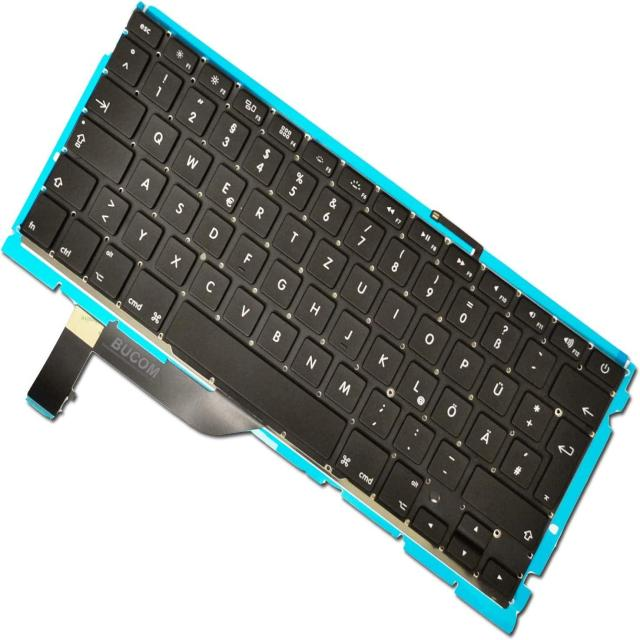0: (445, 283, 488, 335)
1: (141, 58, 182, 108)
2: (173, 82, 216, 133)
3: (208, 107, 250, 157)
4: (241, 132, 283, 183)
5: (274, 158, 317, 208)
6: (308, 183, 351, 233)
7: (342, 208, 386, 258)
8: (376, 233, 419, 284)
9: (410, 258, 453, 308)
a: (125, 155, 167, 206)
accent: (514, 334, 557, 385)
ae: (465, 410, 506, 461)
alt-left: (88, 242, 132, 302)
altgr-right: (376, 463, 423, 519)
b: (255, 308, 299, 360)
c: (187, 260, 231, 311)
caret: (104, 34, 149, 86)
comma: (358, 385, 401, 438)
d: (191, 204, 234, 257)
del: (548, 361, 610, 433)
e: (204, 160, 247, 212)
enter: (533, 413, 590, 509)
f: (224, 229, 268, 281)
g: (259, 257, 302, 306)
h: (293, 281, 336, 332)
hash: (498, 435, 542, 489)
i: (374, 286, 417, 337)
j: (326, 307, 370, 358)
k: (361, 332, 405, 383)
keyboard: (5, 6, 639, 621)
l: (395, 358, 439, 410)
less: (86, 182, 129, 234)
m: (323, 360, 366, 412)
minus: (427, 437, 470, 489)
n: (289, 334, 332, 386)
o: (407, 311, 451, 364)
oe: (430, 384, 473, 435)
p: (442, 338, 485, 389)
plus: (510, 389, 554, 441)
point: (392, 410, 435, 462)
q: (136, 111, 179, 161)
r: (238, 185, 281, 236)
s: (157, 181, 200, 231)
shift-left: (42, 153, 96, 210)
shift-lock: (63, 115, 132, 182)
shift-right: (458, 463, 549, 550)
space: (159, 296, 343, 460)
ss: (479, 310, 523, 362)
strg-left: (48, 216, 101, 271)
t: (272, 211, 314, 260)
tab: (82, 74, 146, 139)
u: (340, 261, 383, 312)
ue: (476, 363, 520, 415)
v: (221, 283, 266, 335)
w: (171, 135, 213, 184)
x: (153, 233, 196, 284)
y: (119, 208, 163, 259)
z: (305, 235, 348, 286)
